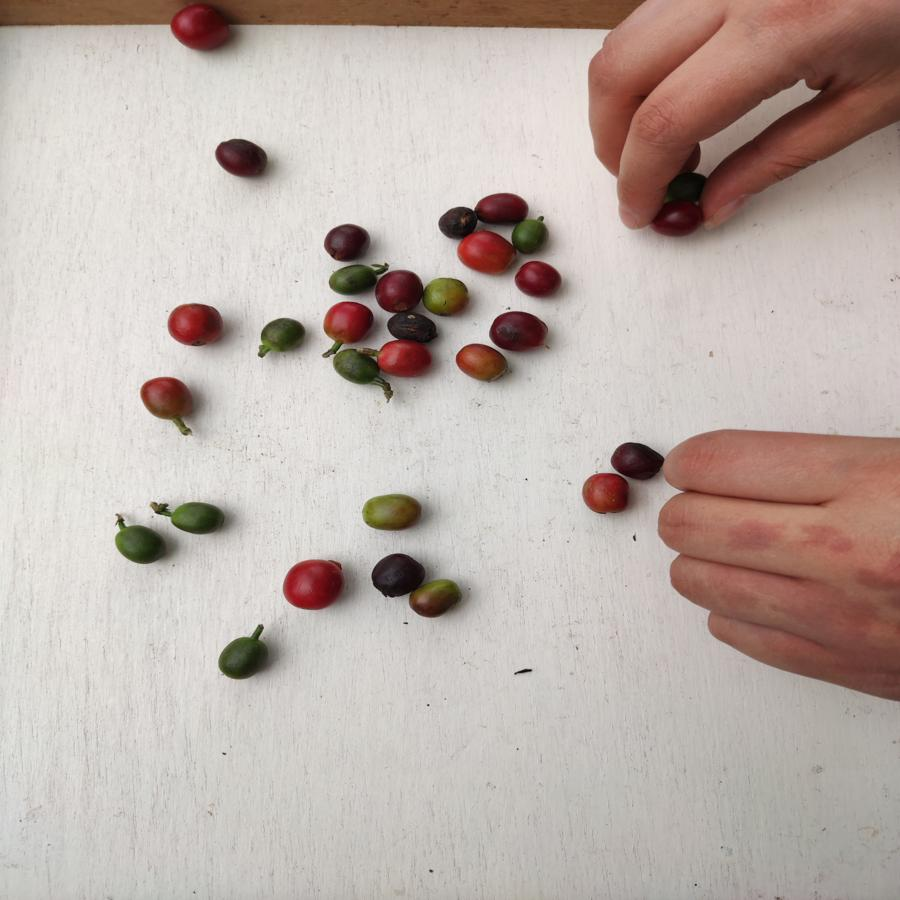Inmaduro: (217, 633, 270, 685), (163, 499, 228, 535), (111, 524, 167, 565), (256, 314, 311, 355), (331, 347, 380, 391), (326, 264, 376, 295), (514, 220, 546, 257)
Maduro: (281, 559, 347, 612), (167, 2, 232, 50), (167, 301, 224, 351), (578, 473, 636, 517), (321, 297, 373, 346), (457, 232, 515, 275), (377, 339, 434, 380), (515, 259, 563, 301)
Pinton: (139, 374, 195, 425), (454, 341, 514, 385), (361, 492, 427, 531), (406, 580, 463, 620), (420, 273, 472, 316)
Sobremaduro: (490, 308, 555, 350), (213, 137, 268, 181), (369, 552, 422, 596), (376, 267, 424, 311), (609, 441, 663, 479), (324, 221, 371, 263), (473, 191, 528, 222), (654, 201, 702, 236), (436, 206, 474, 237)
